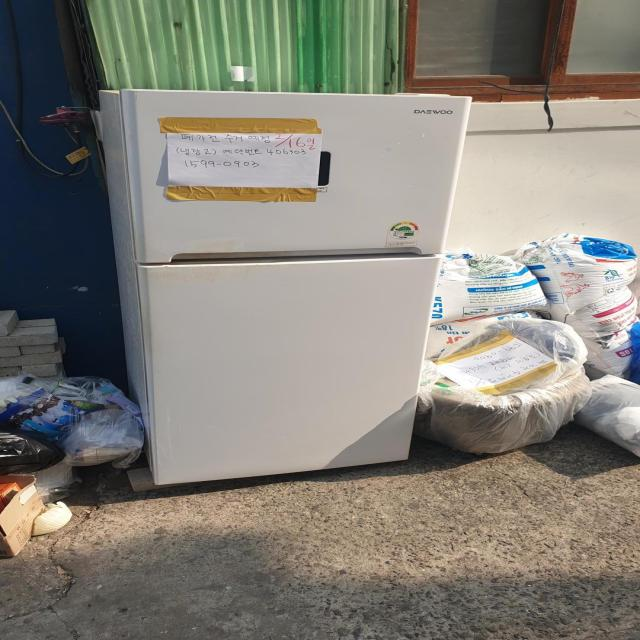refrigerator: (94, 88, 478, 495)
